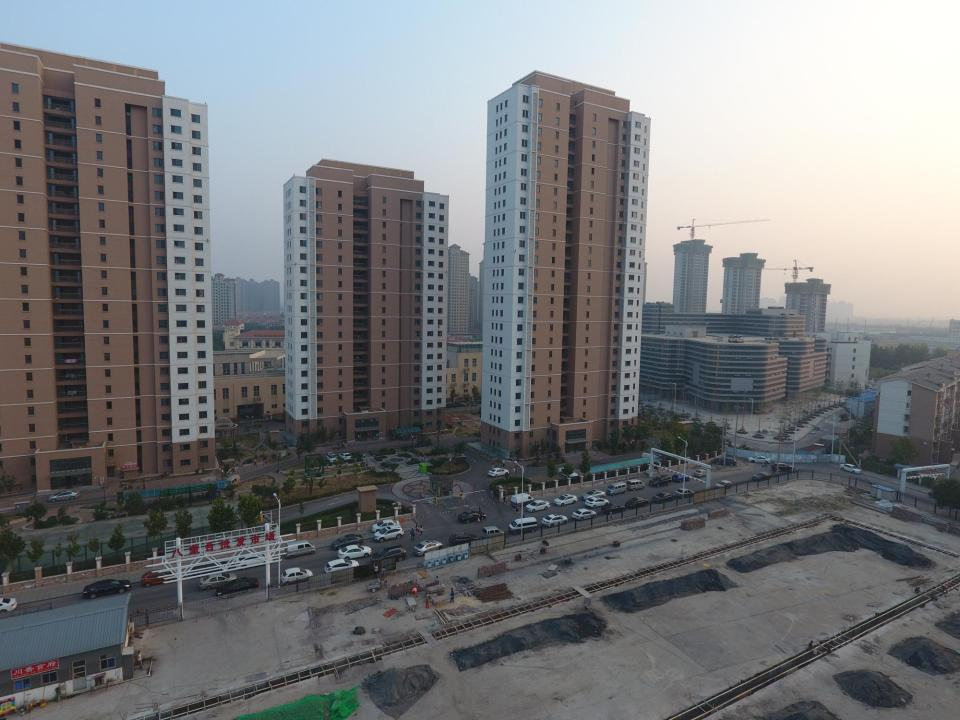car: (82, 578, 130, 597), (214, 577, 259, 597), (370, 544, 406, 564), (140, 570, 182, 587), (199, 573, 237, 589), (281, 568, 313, 585), (374, 525, 404, 543), (337, 545, 371, 560), (325, 559, 359, 574), (412, 540, 442, 556), (331, 534, 363, 549), (448, 532, 478, 546), (370, 519, 400, 532), (457, 510, 486, 523), (541, 514, 567, 527), (581, 489, 607, 501), (571, 509, 597, 521), (482, 526, 505, 539), (624, 496, 648, 508), (554, 494, 578, 506), (652, 492, 675, 504), (584, 497, 609, 508), (525, 500, 550, 511), (713, 456, 737, 467), (650, 475, 670, 487), (601, 503, 625, 513), (558, 467, 578, 479), (256, 552, 273, 566), (488, 468, 509, 478), (674, 488, 695, 497), (671, 473, 692, 482), (752, 472, 771, 481), (747, 456, 771, 463), (715, 480, 733, 489), (694, 469, 710, 478), (326, 452, 338, 462), (339, 452, 352, 461)
van: (284, 540, 316, 559), (509, 517, 538, 533), (510, 492, 534, 506), (606, 482, 627, 496), (222, 475, 241, 490), (627, 480, 645, 491)
